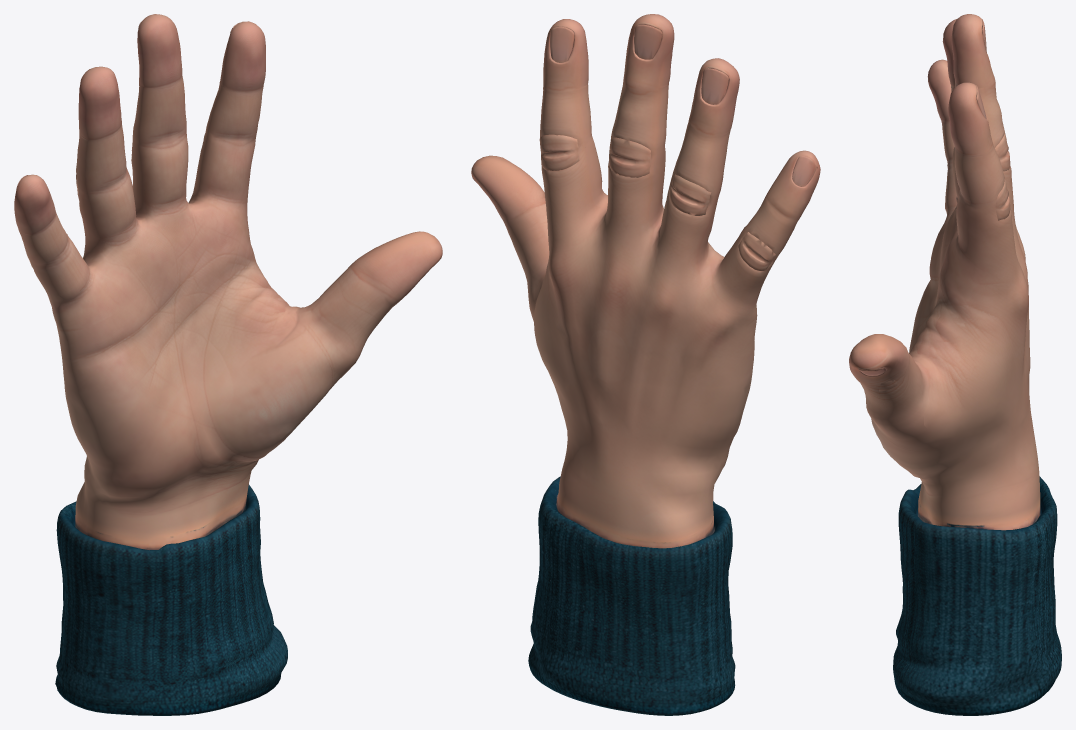
The model's file is f082b78c-6656-4a3c-b16e-beee5150e7ff.fbx.
3 renders of one model, left to right at view 1: azimuth 30°, elevation 25°; view 2: azimuth 150°, elevation 25°; view 3: azimuth 270°, elevation 25°, orthographic. The views are drawn at different scales.
Parts seen in each view (by area): view 1: c30e1f71_3d3a_475d_a949_bba51cd05e8c; view 2: c30e1f71_3d3a_475d_a949_bba51cd05e8c; view 3: c30e1f71_3d3a_475d_a949_bba51cd05e8c.
Part boxes in pixels (<box>): c30e1f71_3d3a_475d_a949_bba51cd05e8c: <box>14,14,442,715</box>; c30e1f71_3d3a_475d_a949_bba51cd05e8c: <box>471,14,820,715</box>; c30e1f71_3d3a_475d_a949_bba51cd05e8c: <box>849,14,1061,715</box>.
Bounding box in the file's own units: 0.604 × 0.9995 × 0.2983.
Materials: 1 (1 with a texture image).
